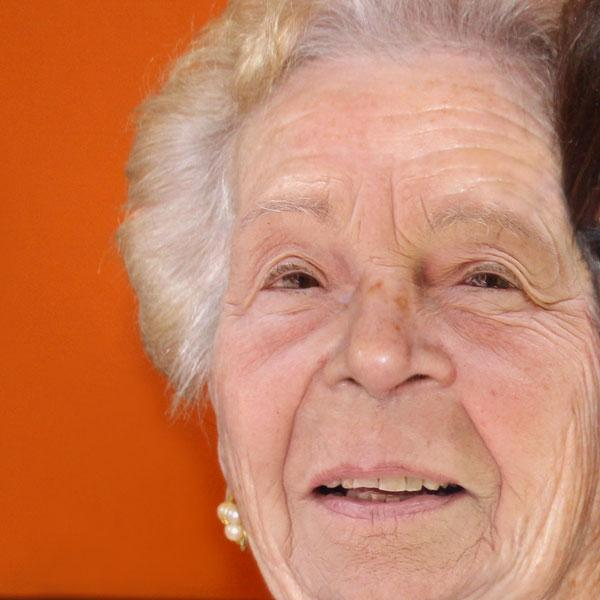Eyes: (246, 244, 339, 314), (442, 249, 540, 310)
